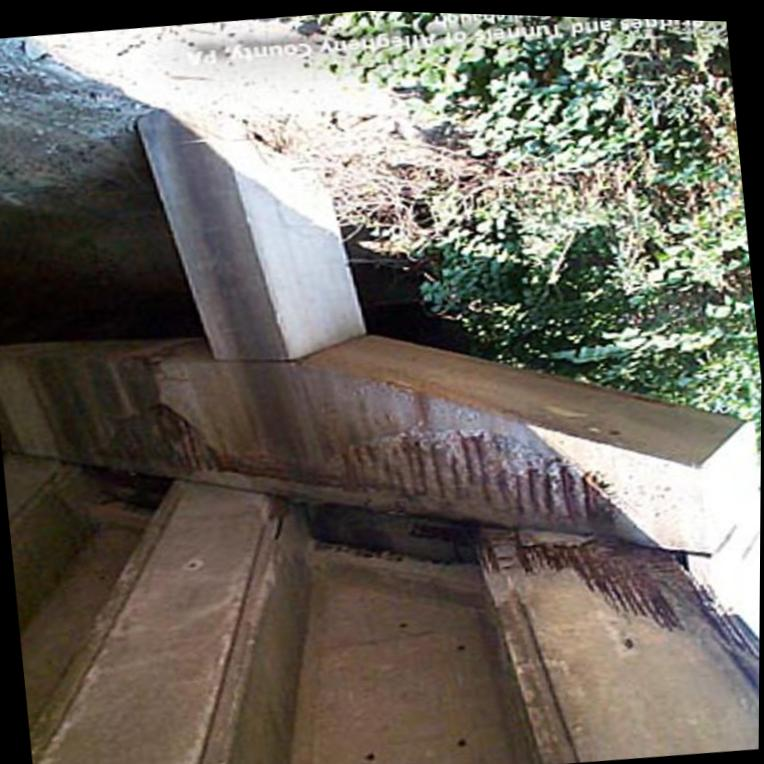damage: (92, 402, 760, 661)
